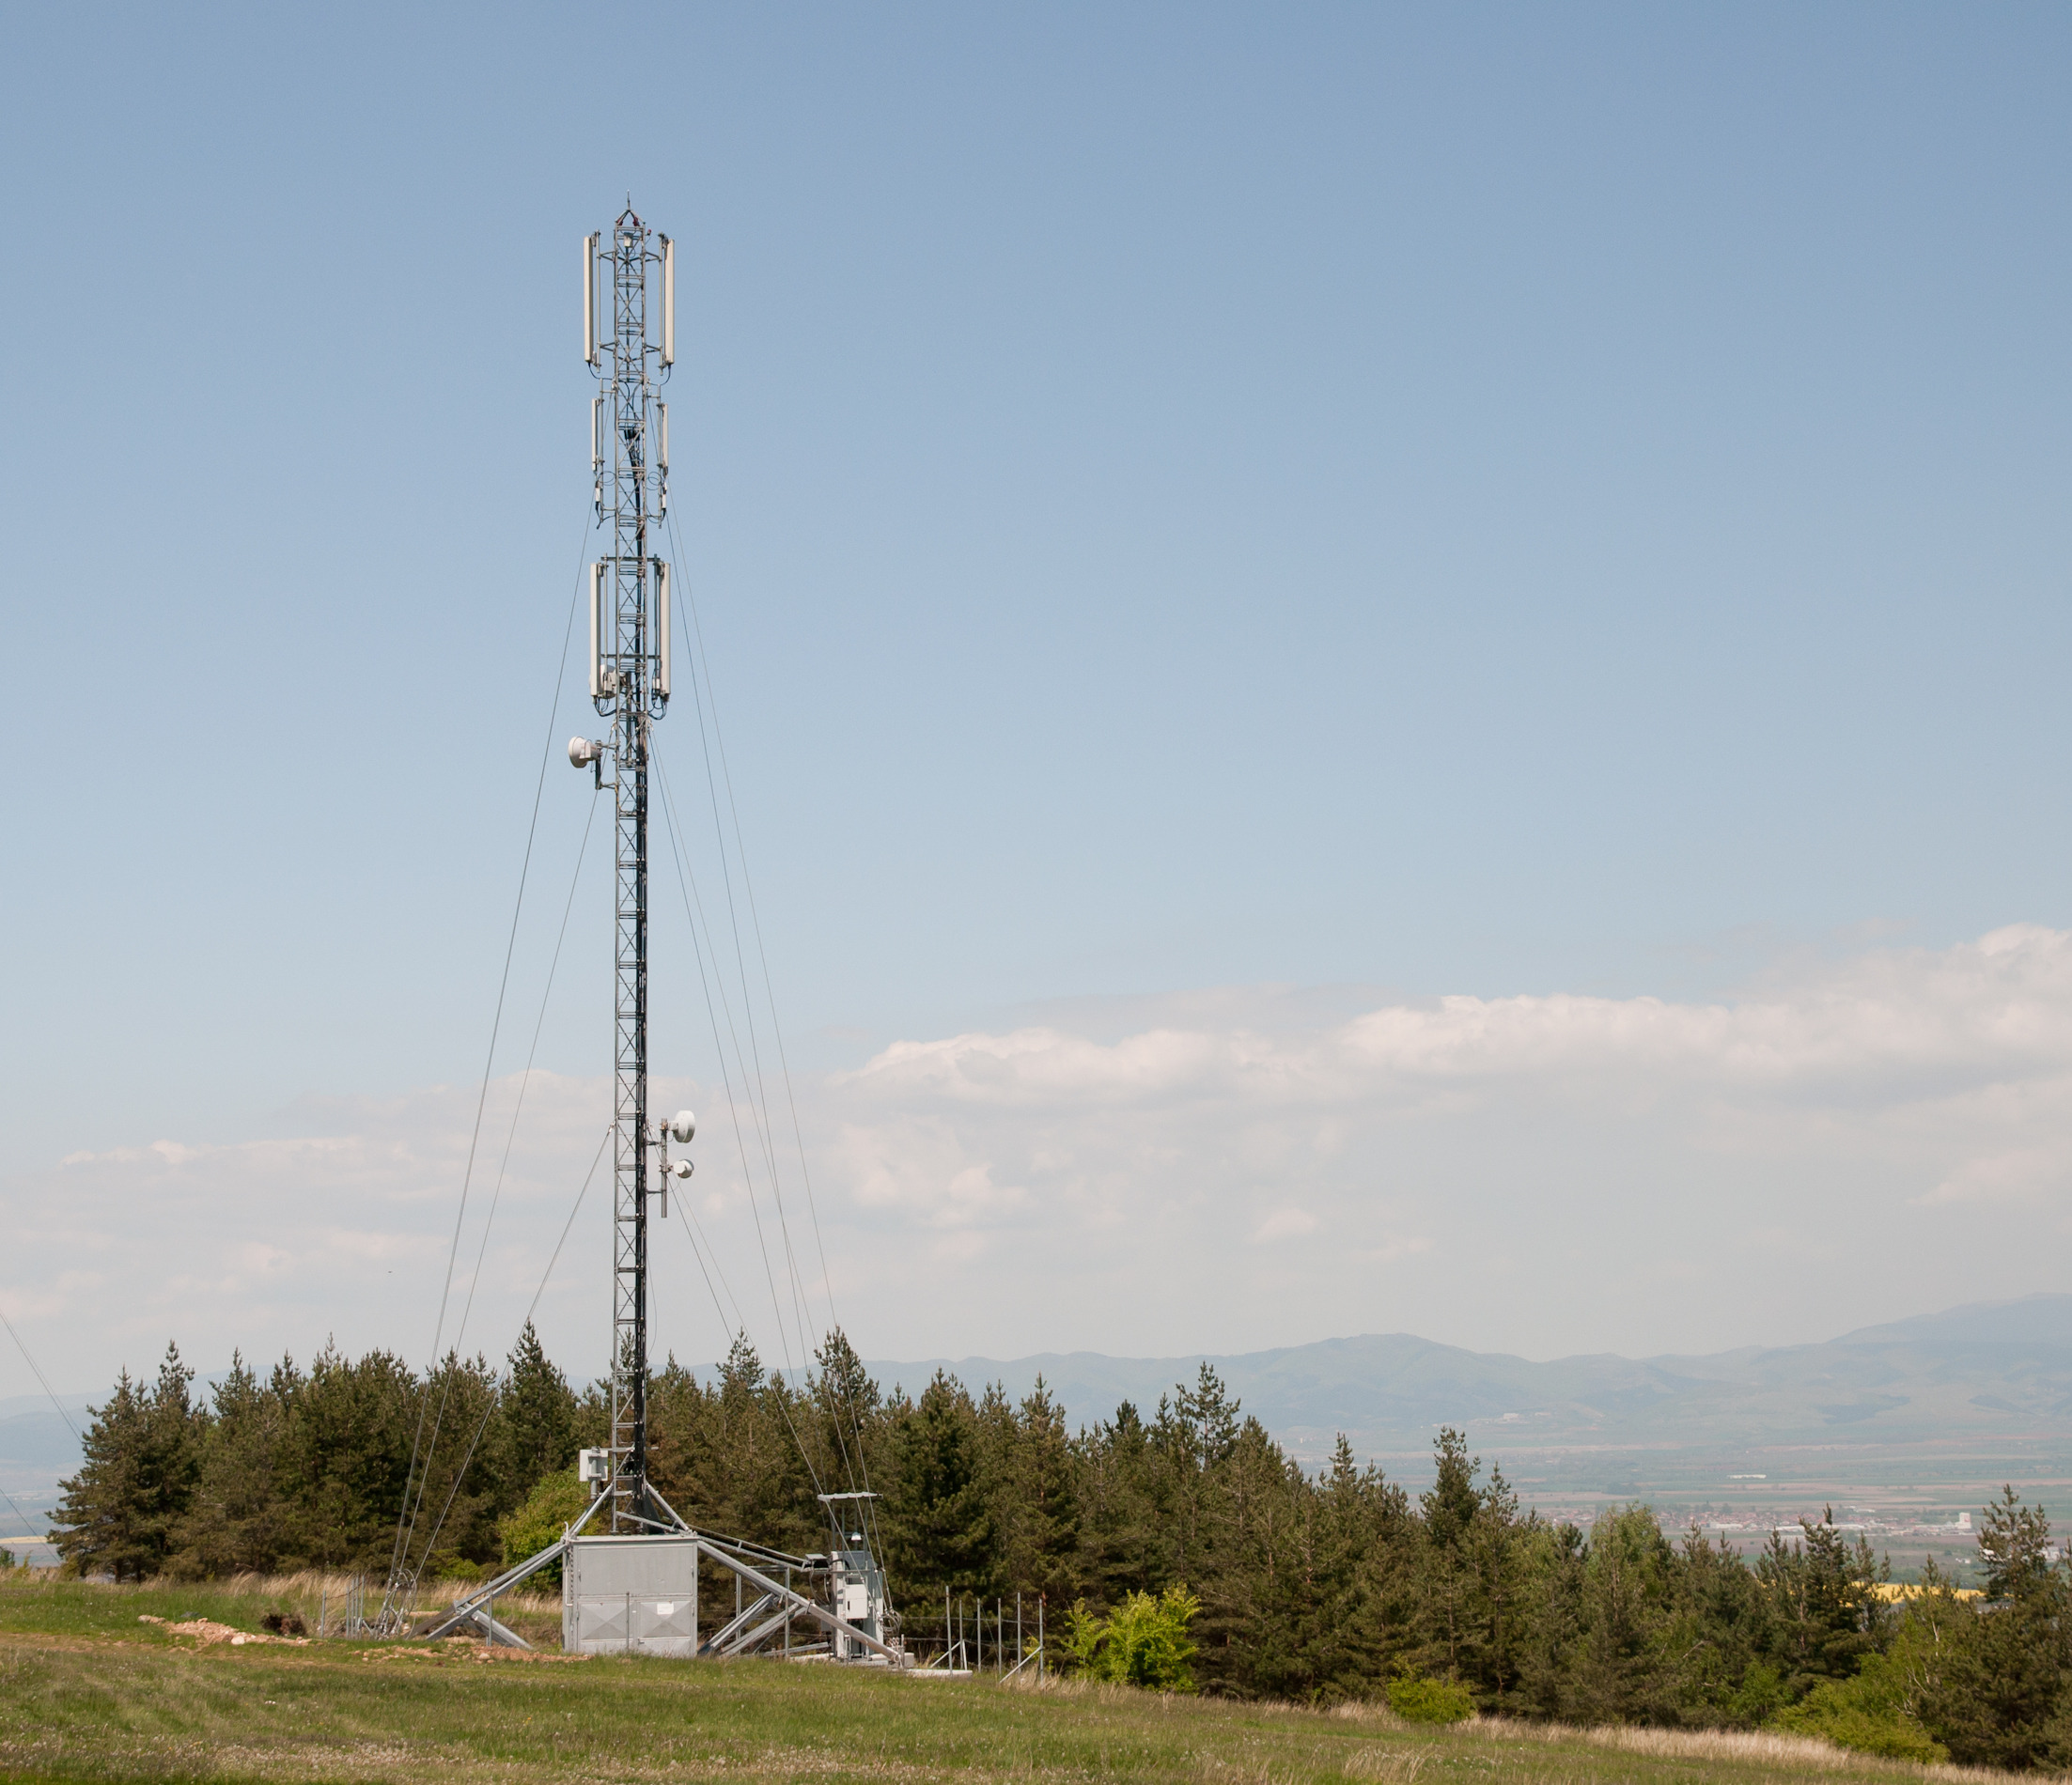ba: (559, 719, 613, 798)
sa: (576, 226, 634, 377), (664, 243, 682, 381)
